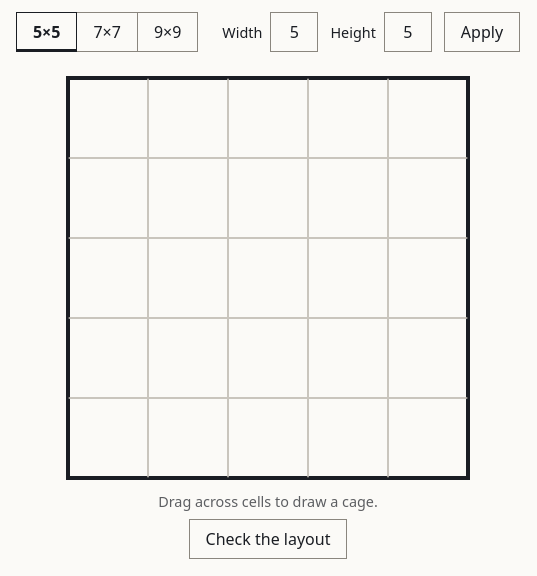
Scenario: checking the layout › confirms a layout in which every cell is in a cage
Replace the text in the number field with test id "width" with "3" at (294, 32), box 270,12 -> 318,52
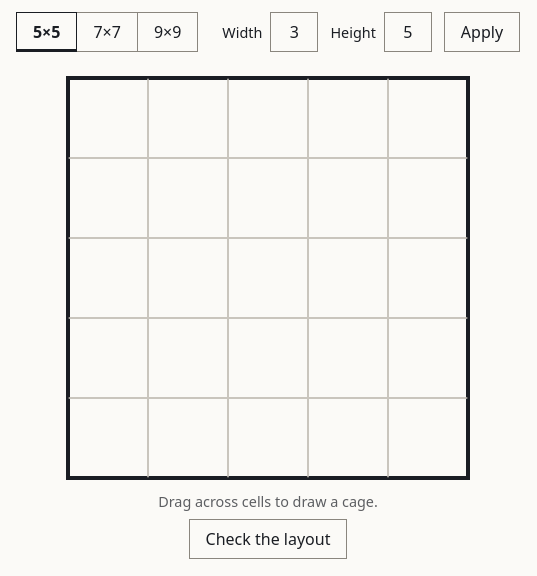
Replace the text in the number field with test id "height" with "3" at (408, 32), box 384,12 -> 432,52
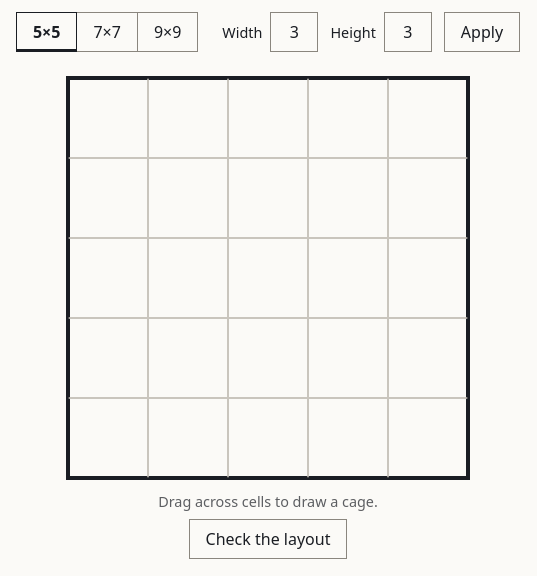
Click the button with test id "apply-size" at (482, 32), box 444,12 -> 520,52
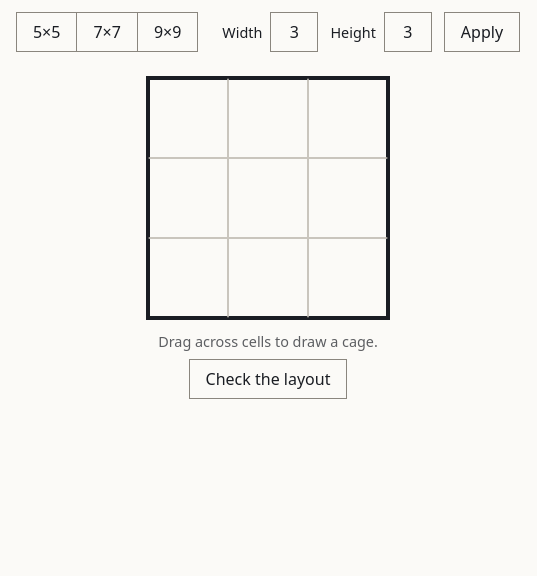
Press the mouse on the 1st cell at (188, 118), box 148,78 -> 228,158
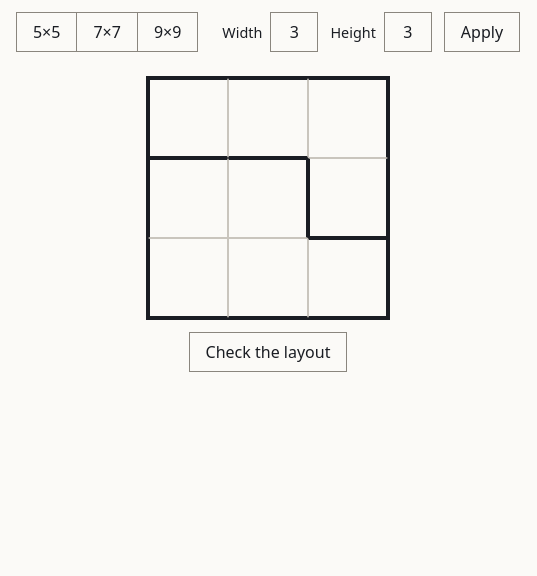
Press the mouse on the 4th cell at (188, 198), box 148,158 -> 228,238
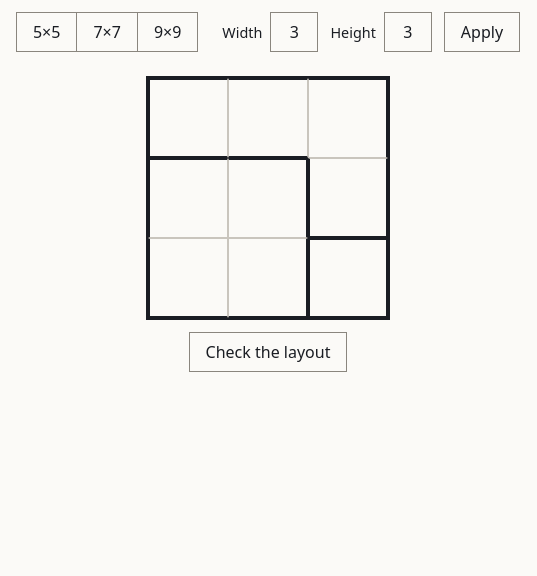
Press the mouse on the 9th cell at (348, 278), box 308,238 -> 388,318
Click the button with test id "check-layout" at (268, 352), box 189,332 -> 348,372
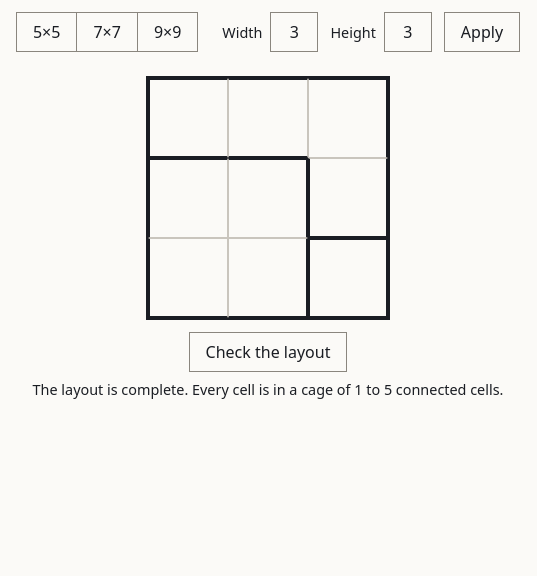
Check: the message with test id "validation-message" shows "The layout is complete", box 33,380 -> 503,399
